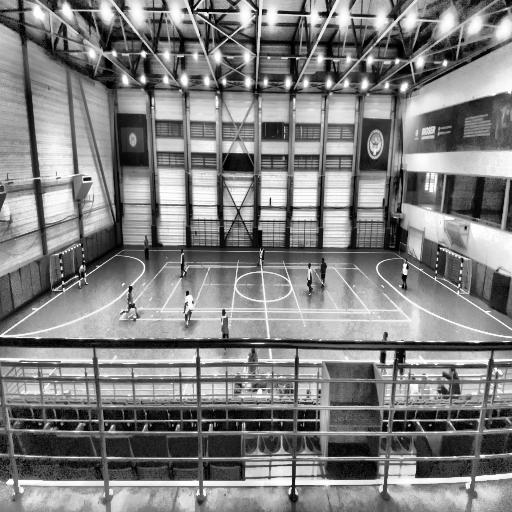ball: (132, 314, 138, 321)
player: (120, 284, 140, 322), (183, 288, 194, 328), (76, 261, 89, 291), (219, 308, 231, 338), (400, 257, 409, 292), (256, 241, 265, 269), (306, 262, 313, 296), (320, 256, 327, 289), (180, 247, 187, 279), (144, 233, 150, 260)
